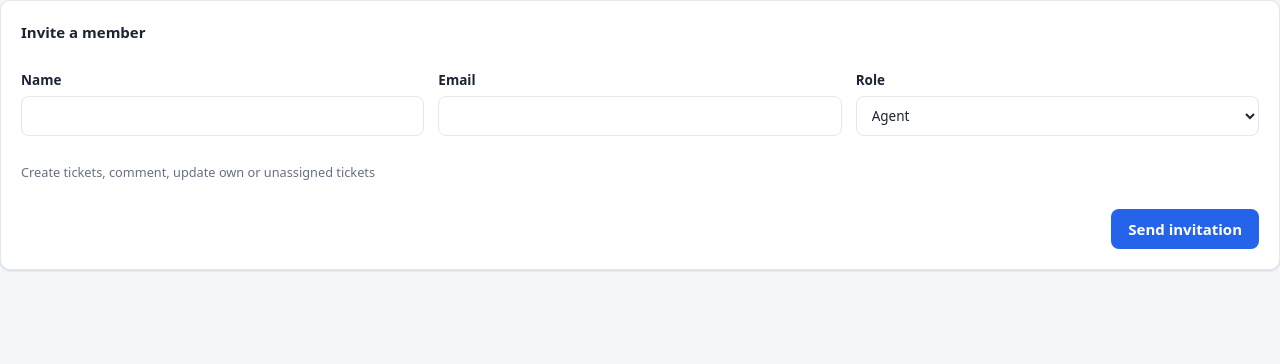
InviteMemberForm › explains out-of-band delivery when no URL is returned (production)
This screenshot has width=1280, height=364.
Type "Bob" into the field labelled "Name" at coordinates (223, 116), box [21,96,424,136]
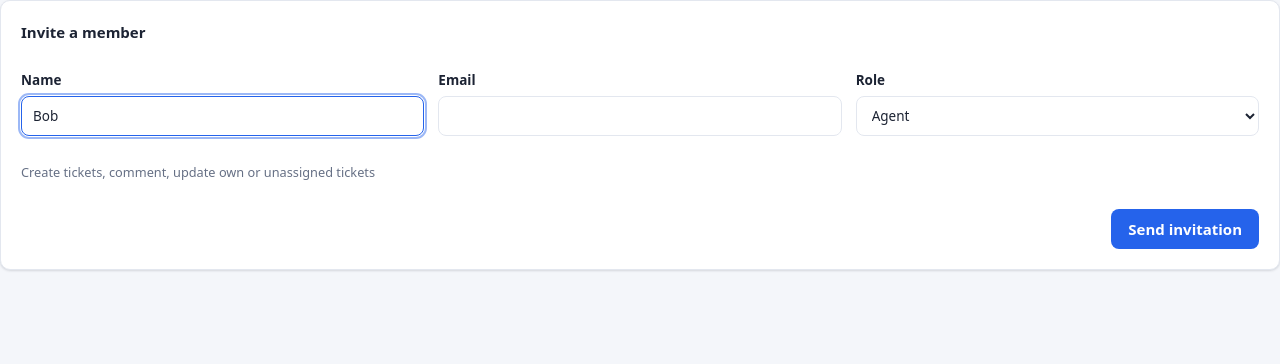
Type "bob@example.com" into the field labelled "Email" at coordinates (640, 116), box [438,96,842,136]
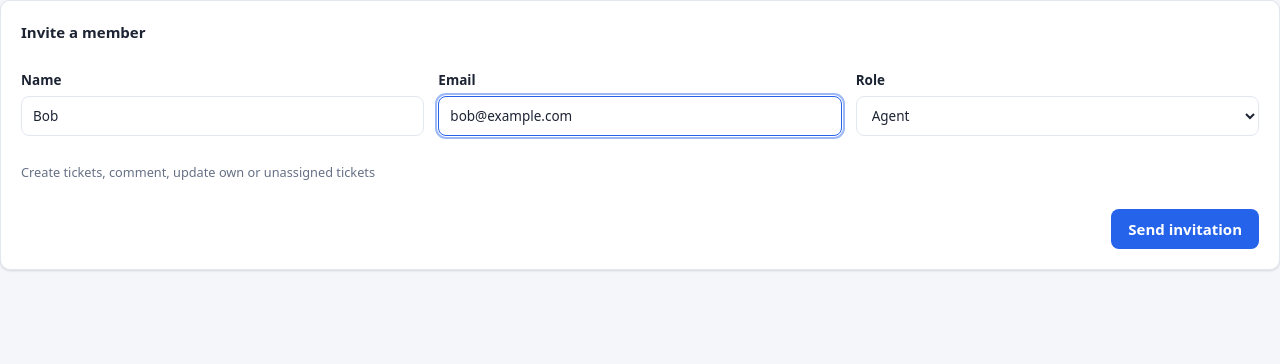
Select "Viewer" in the dropdown labelled "Role" at coordinates (1057, 116), box [856,96,1259,136]
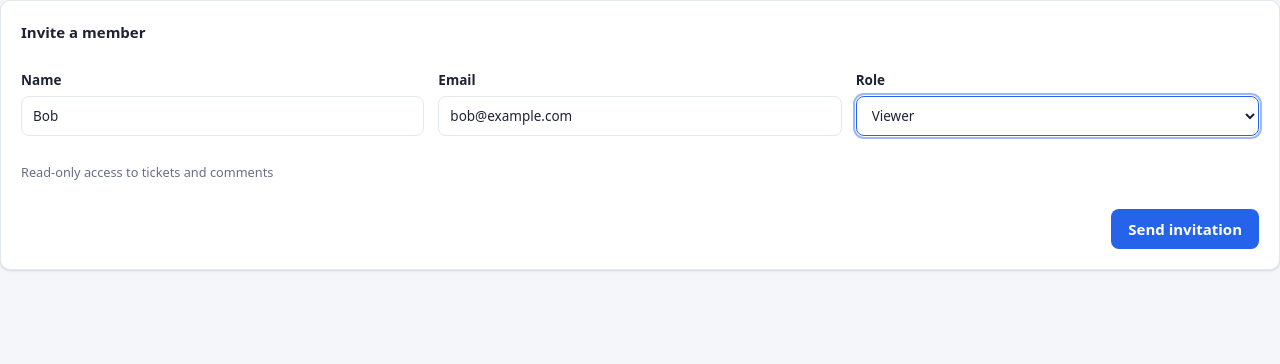
Click the button "Send invitation" at coordinates (1185, 229), box [1111,209,1259,249]
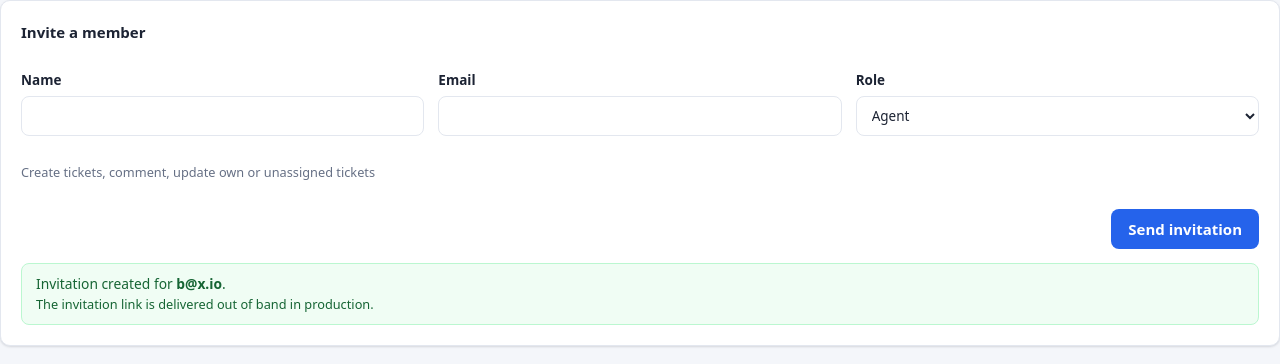
Result: the text "The invitation link is delivered out of band in production." is shown at [36,295,374,314]
